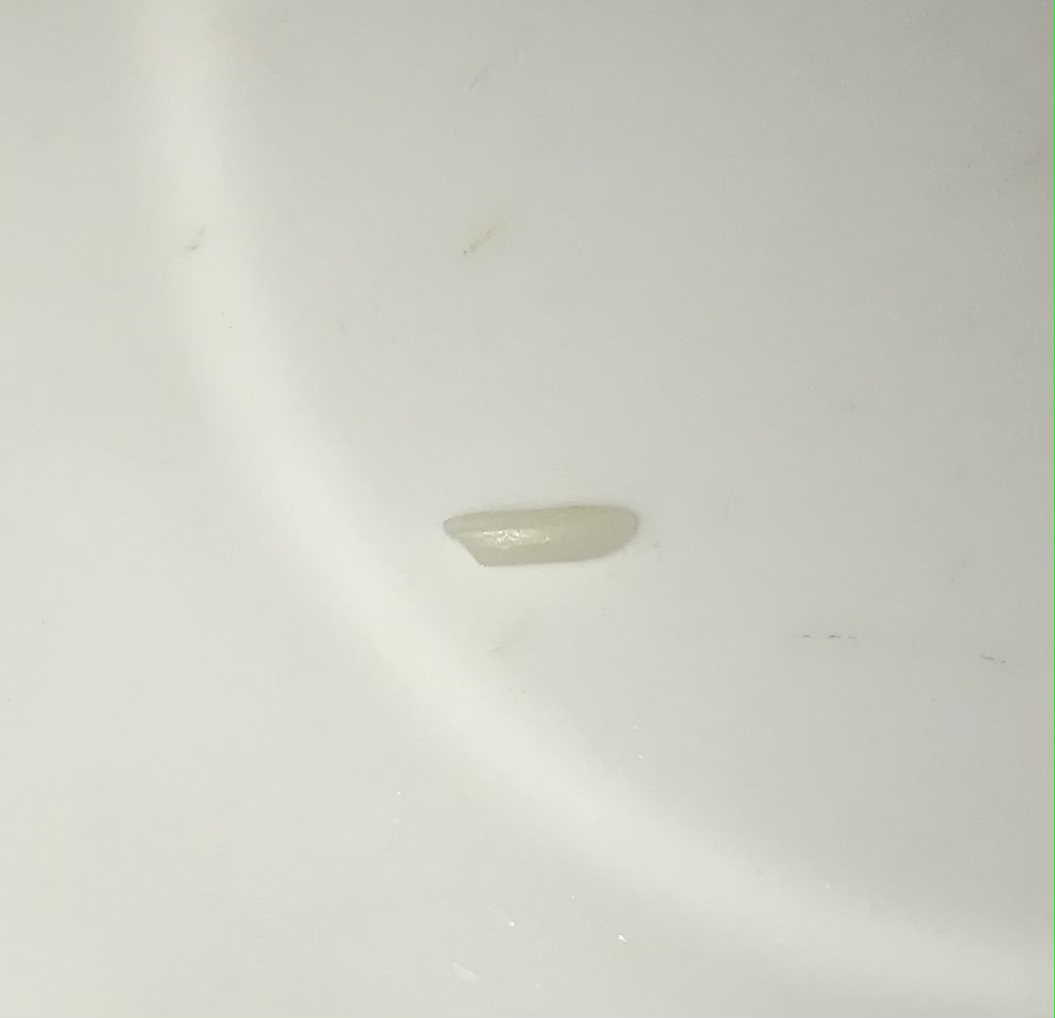Gao Ngoc Troi: (442, 479, 638, 583)
